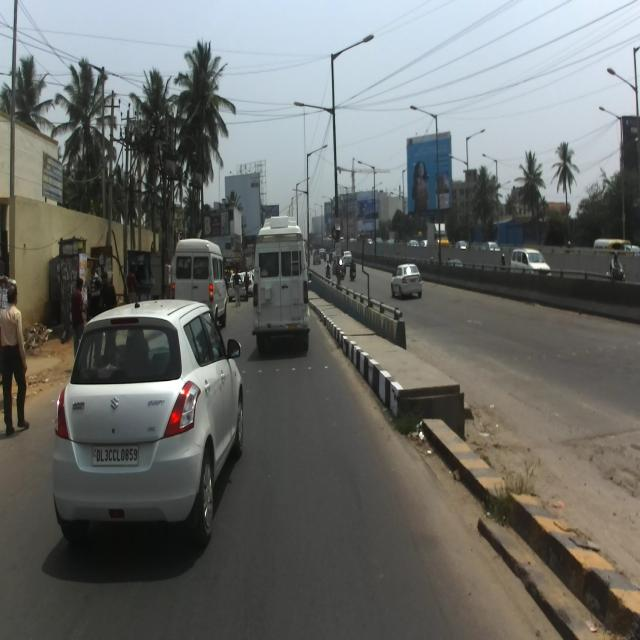Car_Maruti-Suzuki: (52, 298, 244, 548), (390, 262, 422, 298)
mini-bus: (252, 216, 312, 354), (171, 238, 228, 326)
